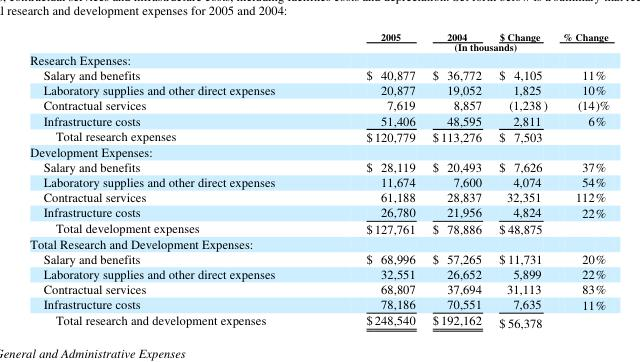table: (29, 29, 609, 330)
table column: (29, 29, 319, 330), (319, 29, 423, 330), (423, 29, 489, 330), (489, 29, 554, 330), (554, 29, 609, 330)
table column header: (29, 29, 609, 52)
table projected row header: (29, 143, 609, 158), (29, 235, 609, 250), (29, 52, 609, 66)
table row: (29, 311, 609, 330), (29, 96, 609, 112), (29, 127, 609, 143), (29, 203, 609, 219), (29, 219, 609, 235), (29, 295, 609, 311), (29, 66, 609, 81), (29, 81, 609, 96), (29, 112, 609, 127), (29, 143, 609, 158), (29, 158, 609, 173), (29, 173, 609, 188), (29, 188, 609, 203), (29, 235, 609, 250), (29, 250, 609, 265), (29, 265, 609, 280), (29, 280, 609, 295), (29, 52, 609, 66), (29, 29, 609, 41), (29, 41, 609, 52)
table spanning cell: (319, 41, 609, 52)
